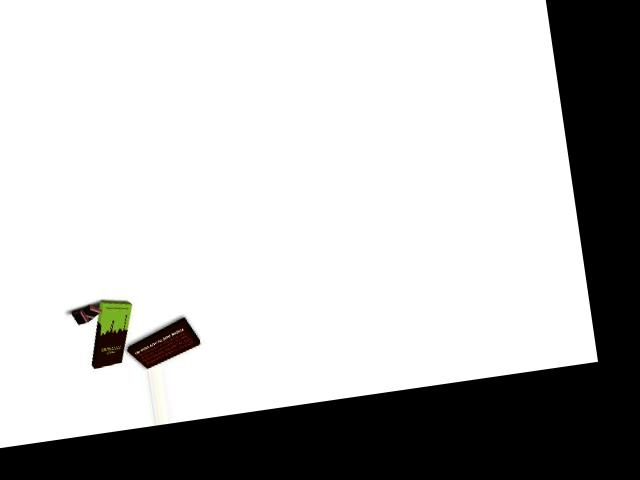chocolate: (87, 294, 136, 369)
